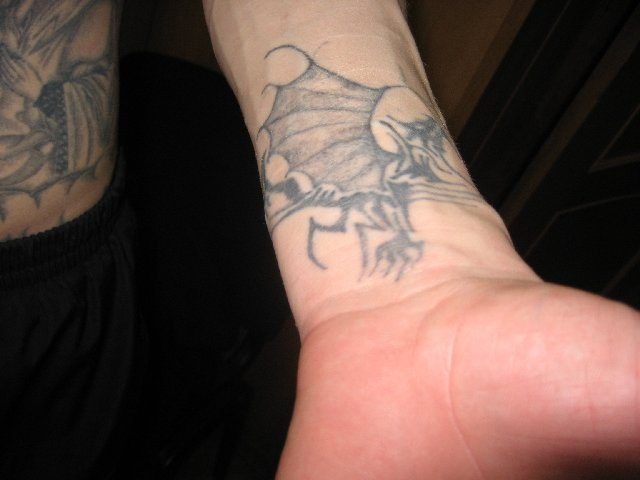tatu6_drakon: (220, 27, 486, 283)
